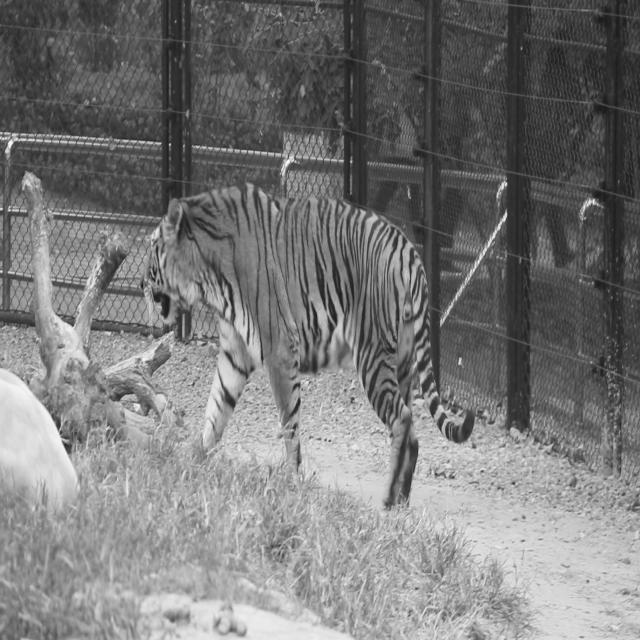Buffalo: (0, 364, 80, 524)
Tiger: (140, 178, 475, 512)
